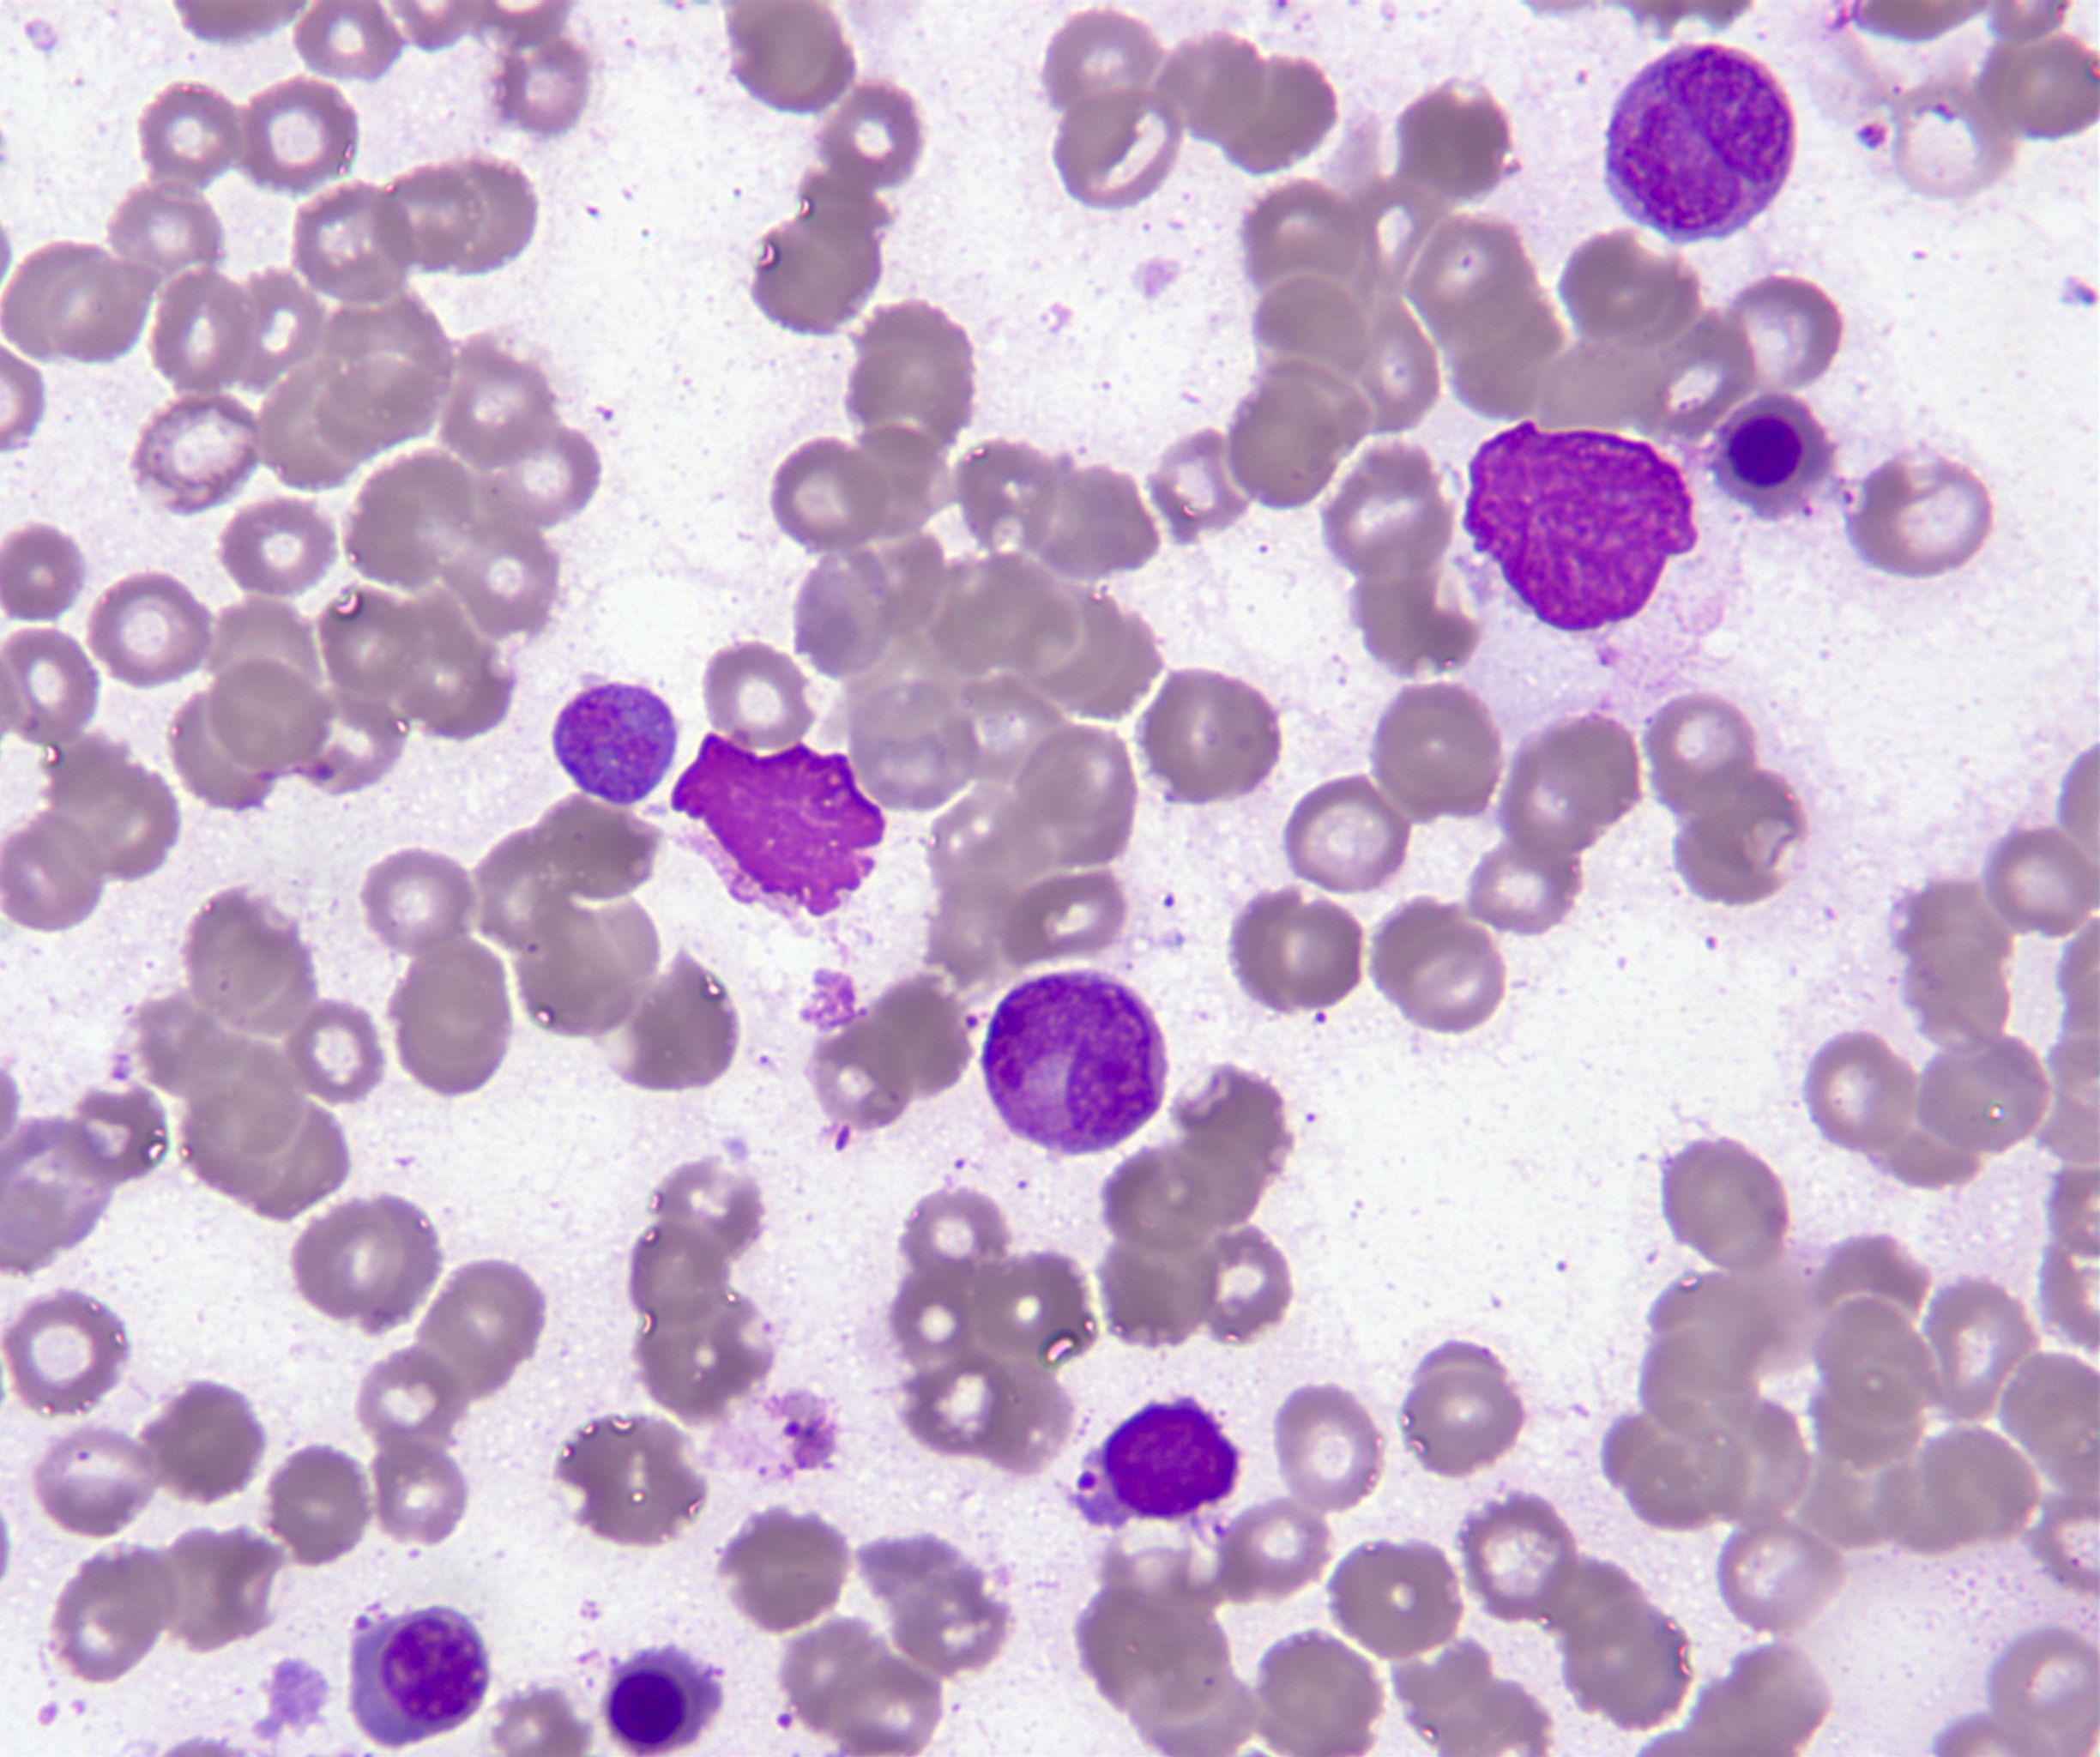23: (351, 1607, 488, 1747)
24: (1708, 391, 1835, 520), (600, 1645, 720, 1757)
32: (1071, 1399, 1238, 1528)
42: (1605, 45, 1793, 244), (982, 972, 1167, 1153)
x: (1462, 419, 1697, 632), (672, 731, 884, 918), (553, 682, 675, 804)
